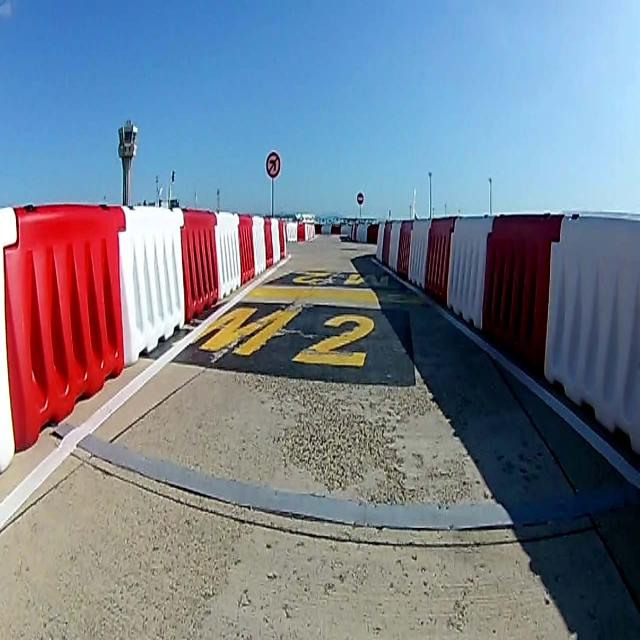soladonulmez: (266, 152, 280, 177)
